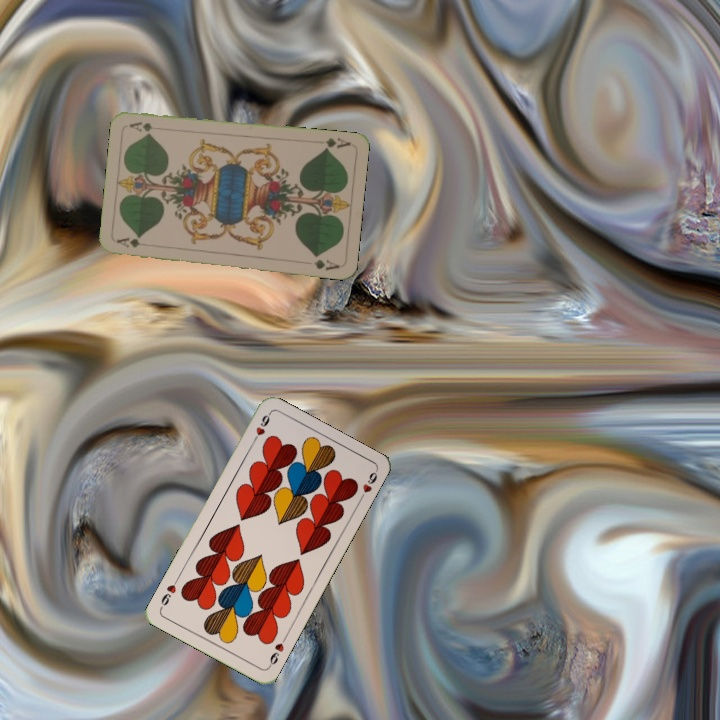GA: (320, 134, 353, 153), (113, 234, 149, 250)
H9: (248, 409, 273, 447), (264, 633, 289, 670)
